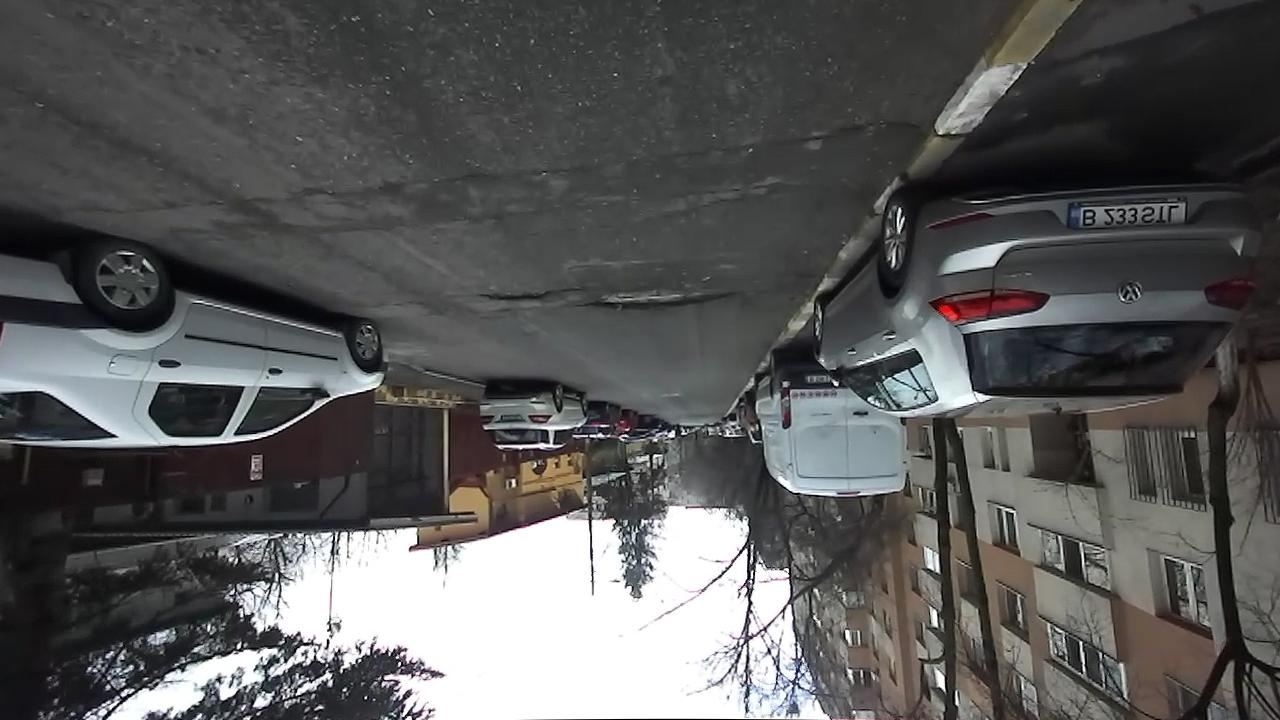pothole: (587, 281, 736, 313), (797, 116, 916, 147), (477, 287, 554, 307)
